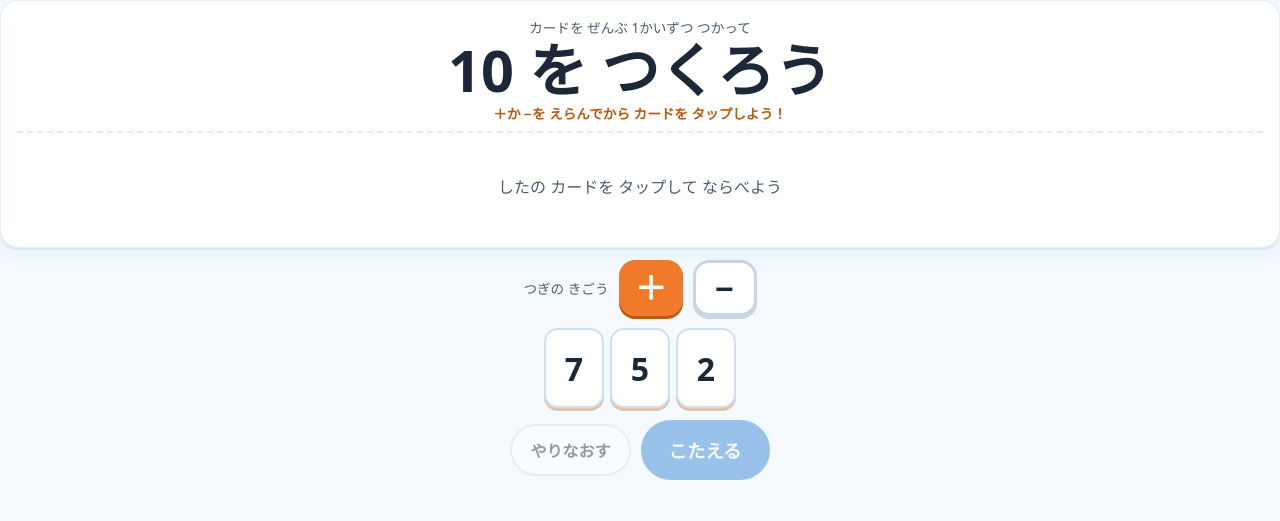
each game view can be solved through its own controls › 03 make10 easy: キーボードでも きりかえられる
Click the button "7" at (574, 368), box left=544, top=328, right=604, bottom=408
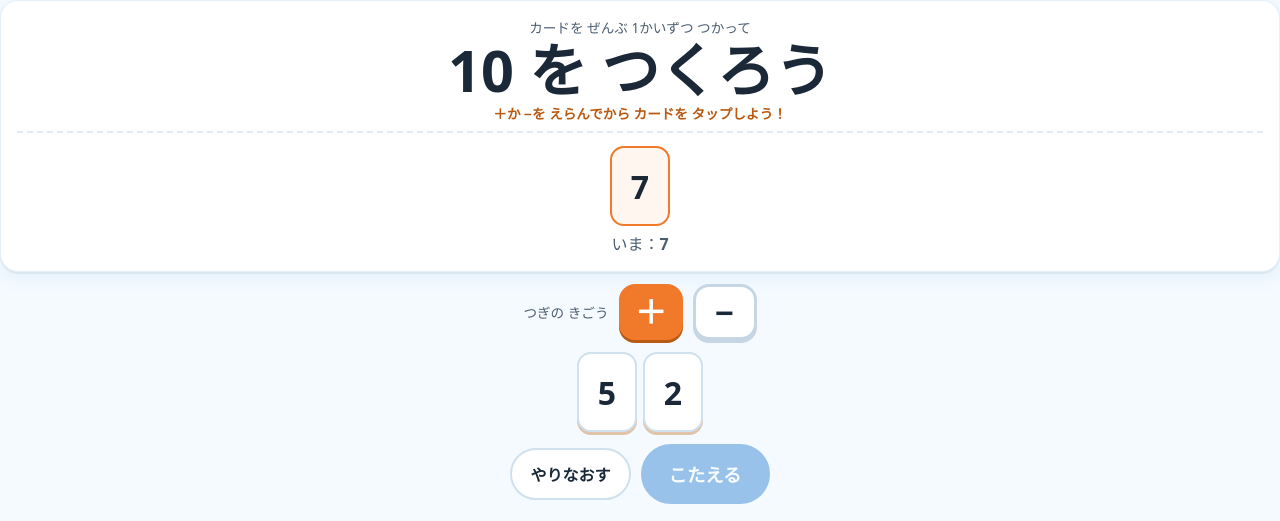
Click the button "5" at (607, 392), box left=577, top=352, right=637, bottom=432
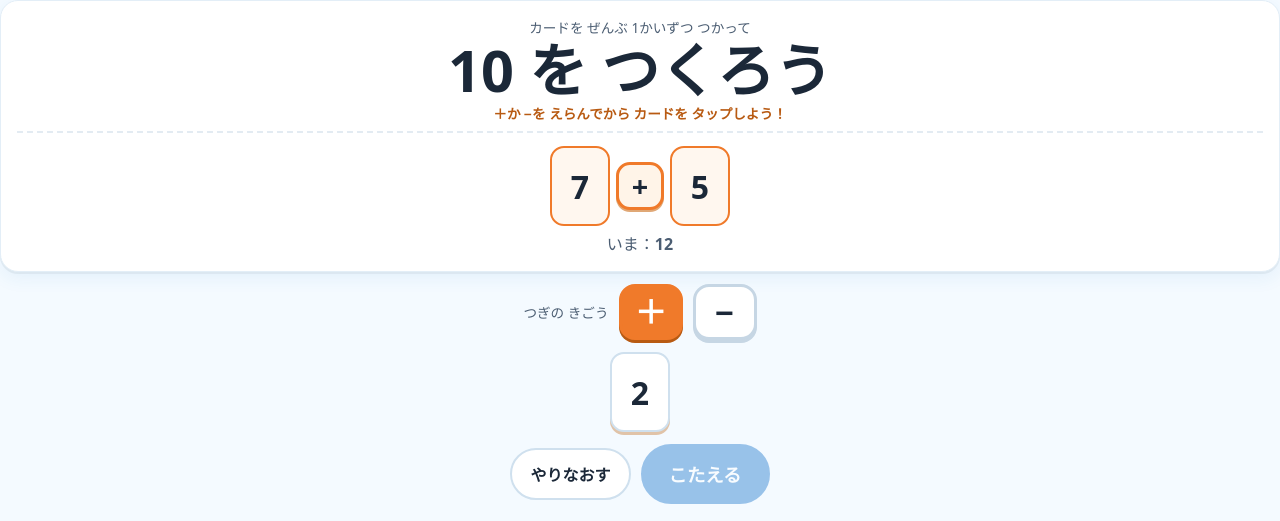
Click the button "2" at (640, 392), box left=610, top=352, right=670, bottom=432
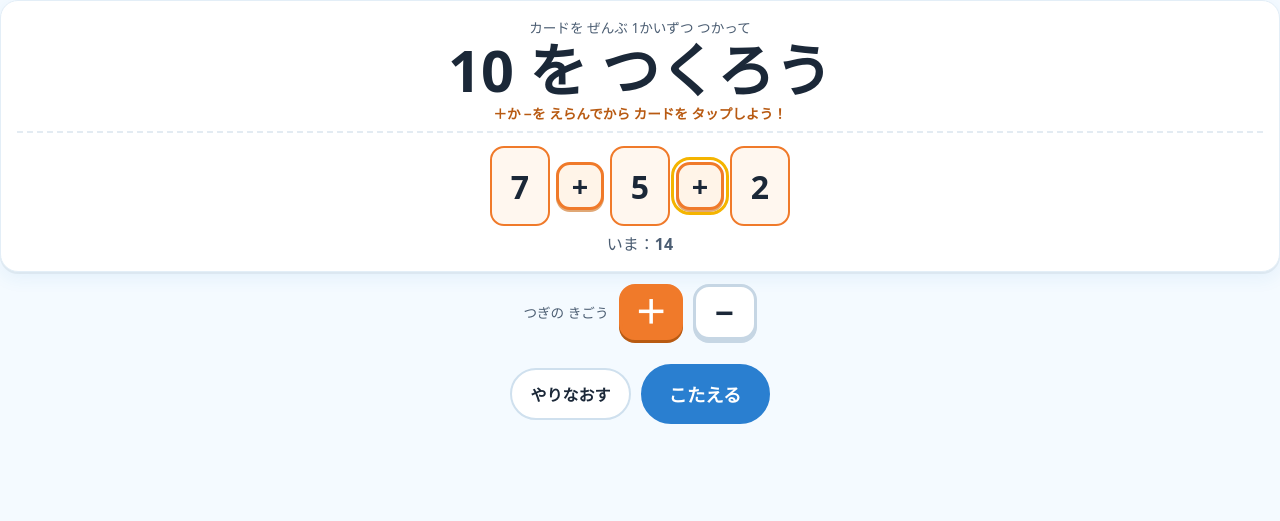
Click the button named "きごう" at (700, 186), box left=676, top=162, right=724, bottom=210
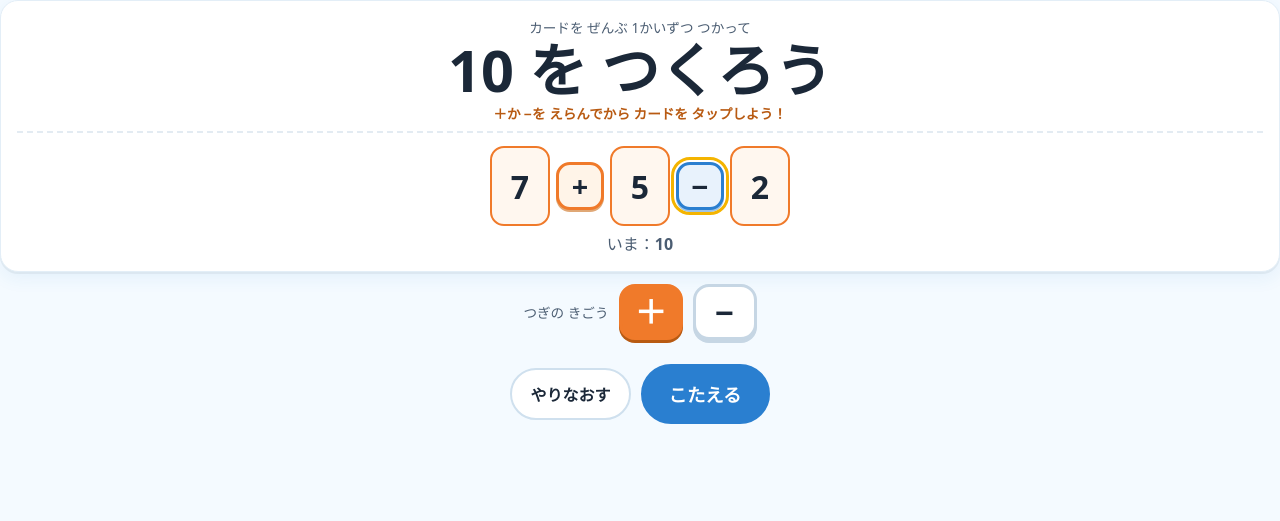
Expected: the text "いま：10" is shown, left=607, top=233, right=673, bottom=255
